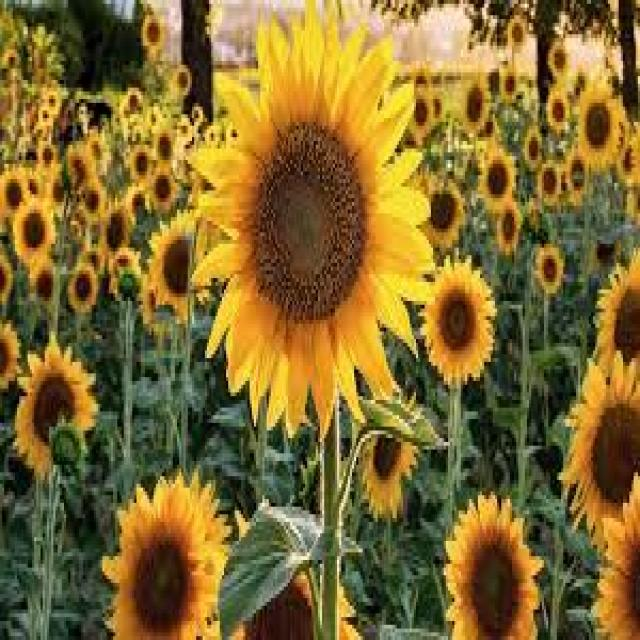sunflower: (182, 2, 440, 448), (102, 465, 216, 640), (435, 491, 546, 640), (563, 341, 640, 543), (11, 333, 102, 486), (416, 251, 503, 381), (8, 191, 56, 278), (574, 88, 619, 175), (458, 65, 496, 141), (477, 151, 517, 219), (97, 188, 131, 264), (532, 240, 566, 301), (68, 257, 102, 314), (544, 84, 574, 145), (136, 14, 170, 56), (128, 141, 154, 190), (503, 9, 527, 52)
